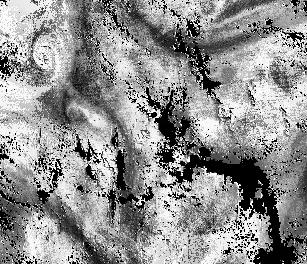CE: (31, 31, 68, 72)
